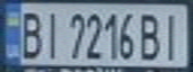1: (103, 9, 121, 60)
2: (63, 8, 87, 60), (84, 8, 106, 60)
6: (118, 9, 139, 61)
B: (15, 7, 45, 60), (136, 9, 163, 61)
I: (157, 9, 187, 61), (39, 7, 66, 60)
